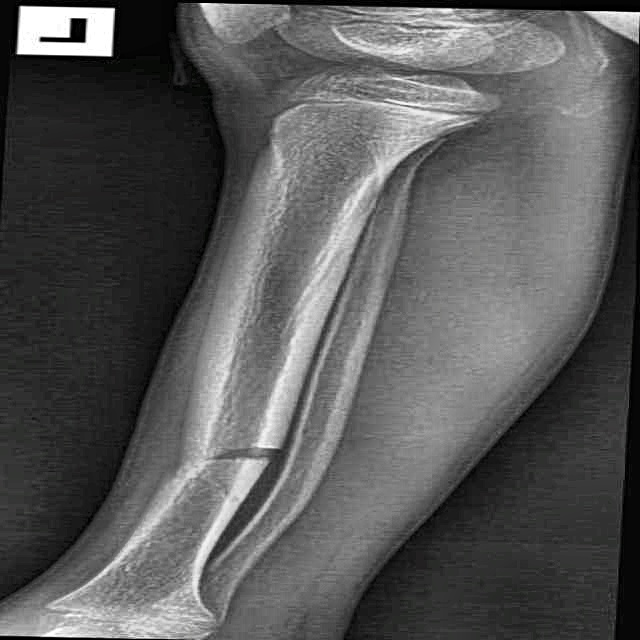Greenstick: (126, 423, 309, 492)
